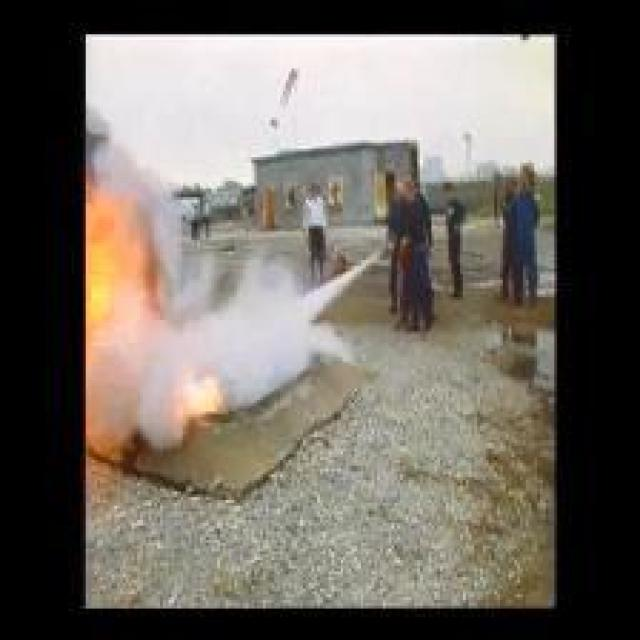fire: (82, 180, 150, 325), (168, 360, 229, 417)
